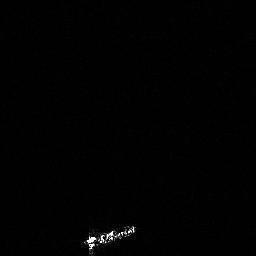ship: (75, 223, 141, 253)
